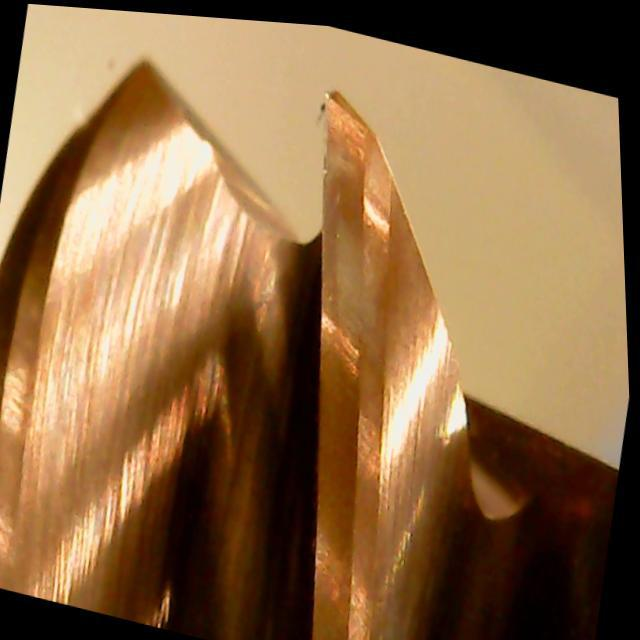Tool-wear-class-0: (253, 72, 467, 470)
